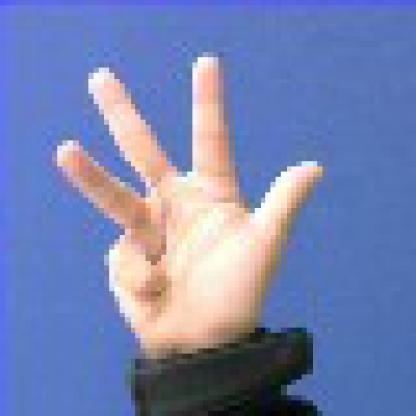nine: (27, 25, 354, 363)
